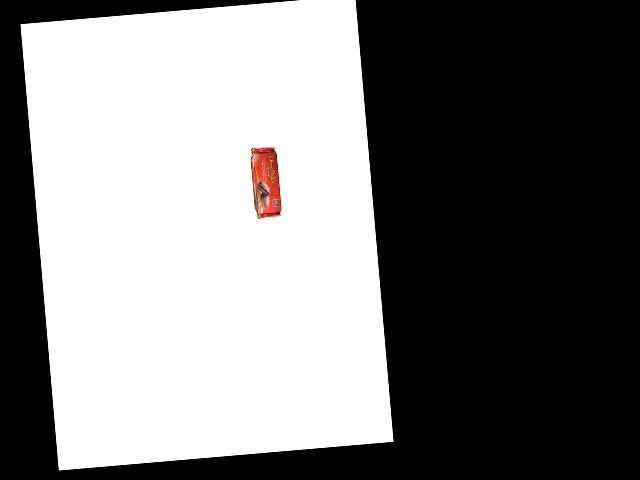chocolate: (243, 145, 282, 220)
